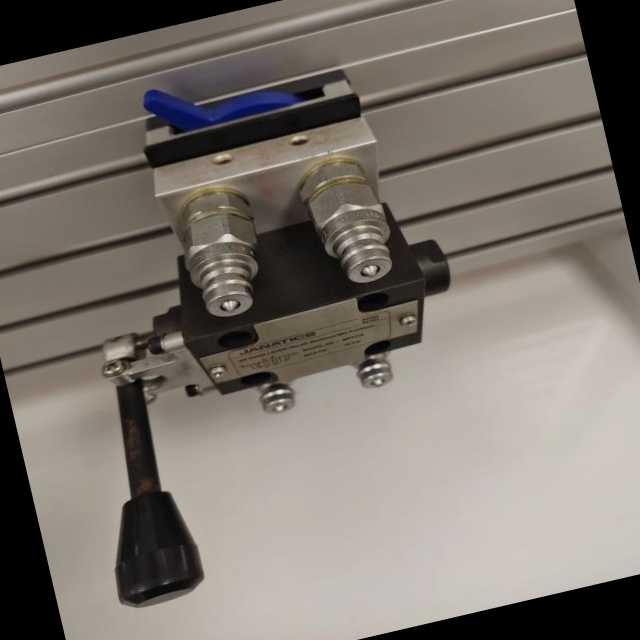4by3 hand lever valve: (8, 30, 517, 618)
